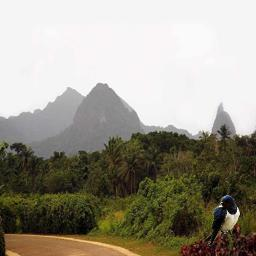Swallow: (203, 195, 240, 247)
